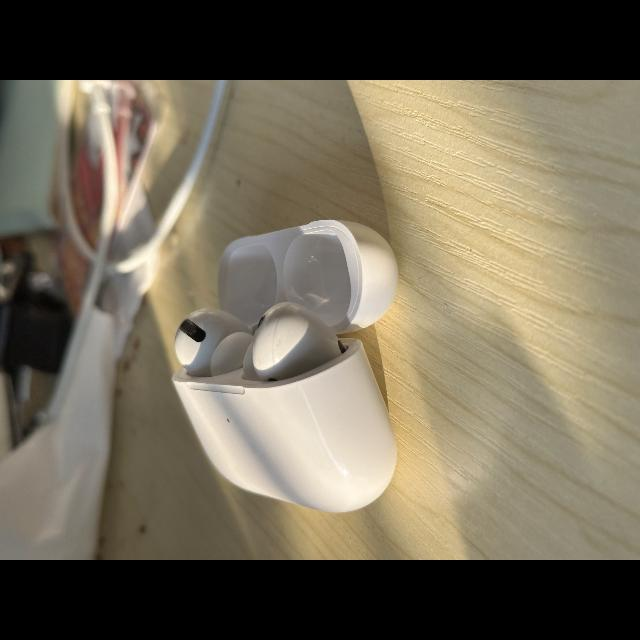AirPods Pro: (172, 219, 398, 513)
